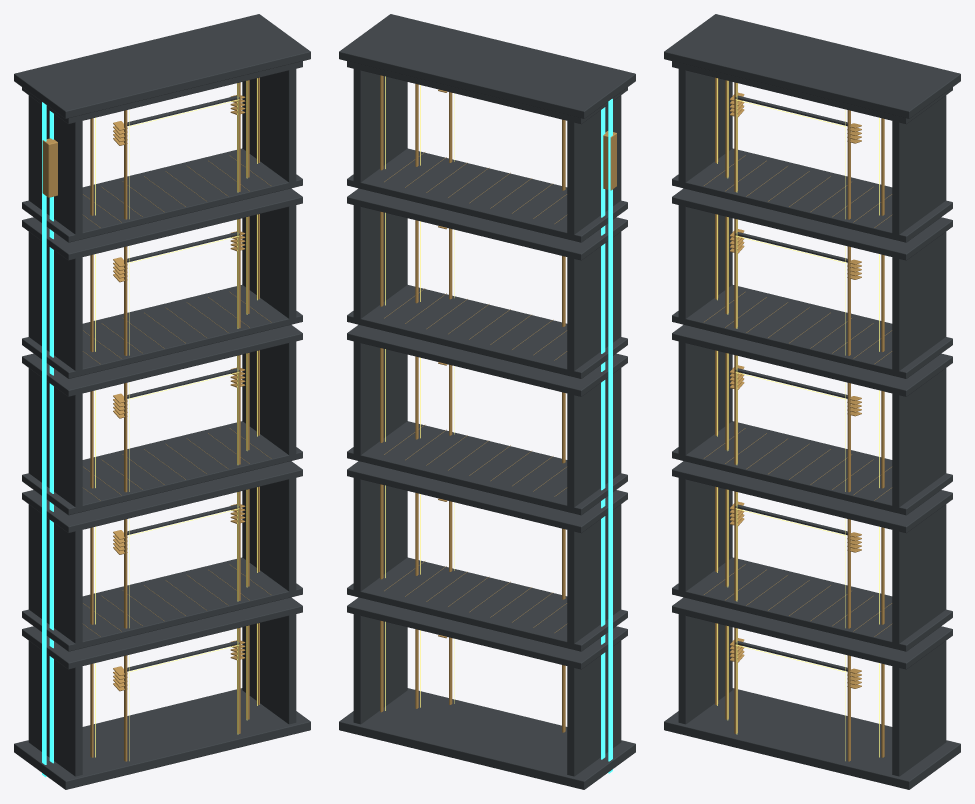
Rendered from tower-five-levels.glb.
The picture shows the model from 3 angles, left to right: view 1: azimuth 30°, elevation 25°; view 2: azimuth 150°, elevation 25°; view 3: azimuth 330°, elevation 25°; orthographic projection.
Parts seen in each view (by area): view 1: Roof, Foundation, Floor_0_slab, Floor_3_slab, Floor_2_slab, Floor_1_slab, Floor_1_wall, Floor_2_wall, Floor_3_wall, Floor_4_ceiling, Floor_3_ceiling, Floor_1_ceiling (+12 smaller); view 2: Roof, Foundation, Floor_0_slab, Floor_3_slab, Floor_2_slab, Floor_1_slab, Floor_1_wall, Floor_2_wall, Floor_3_wall, Floor_4_ceiling, Floor_2_ceiling, Floor_3_ceiling (+12 smaller); view 3: Roof, Foundation, Floor_0_slab, Floor_3_slab, Floor_2_slab, Floor_1_slab, Floor_0_wall.001, Floor_1_wall.001, Floor_2_wall.001, Floor_3_wall.001, Floor_4_wall.001, Floor_4_ceiling (+9 smaller).
Part boxes in pixels (x1,y1,x2,y2): Roof: (14, 14, 310, 118); Foundation: (14, 688, 310, 789); Floor_0_slab: (22, 148, 302, 242); Floor_3_slab: (22, 557, 302, 651); Floor_2_slab: (22, 421, 302, 515); Floor_1_slab: (22, 285, 302, 378); Floor_1_wall: (28, 232, 82, 376); Floor_2_wall: (28, 368, 82, 513); Floor_3_wall: (28, 504, 82, 649); Floor_4_ceiling: (22, 597, 302, 669); Floor_3_ceiling: (22, 461, 302, 533); Floor_1_ceiling: (22, 188, 302, 260); Roof: (339, 14, 635, 118); Foundation: (339, 688, 635, 789); Floor_0_slab: (347, 148, 627, 242); Floor_3_slab: (347, 557, 627, 651); Floor_2_slab: (347, 421, 627, 515); Floor_1_slab: (347, 285, 627, 378); Floor_1_wall: (567, 232, 621, 376); Floor_2_wall: (567, 368, 621, 513); Floor_3_wall: (567, 504, 621, 648); Floor_4_ceiling: (347, 597, 627, 669); Floor_2_ceiling: (347, 324, 627, 396); Floor_3_ceiling: (347, 461, 627, 533); Roof: (664, 14, 960, 118); Foundation: (664, 688, 960, 789); Floor_0_slab: (672, 148, 952, 242); Floor_3_slab: (672, 557, 952, 651); Floor_2_slab: (672, 421, 952, 515); Floor_1_slab: (672, 285, 952, 378); Floor_0_wall.001: (892, 95, 946, 240); Floor_1_wall.001: (892, 232, 946, 376); Floor_2_wall.001: (892, 368, 946, 513); Floor_3_wall.001: (892, 504, 946, 648); Floor_4_wall.001: (892, 641, 946, 776); Floor_4_ceiling: (672, 597, 952, 669).
Size of the model in its own units: 11.5 by 30.53 by 4.2.
